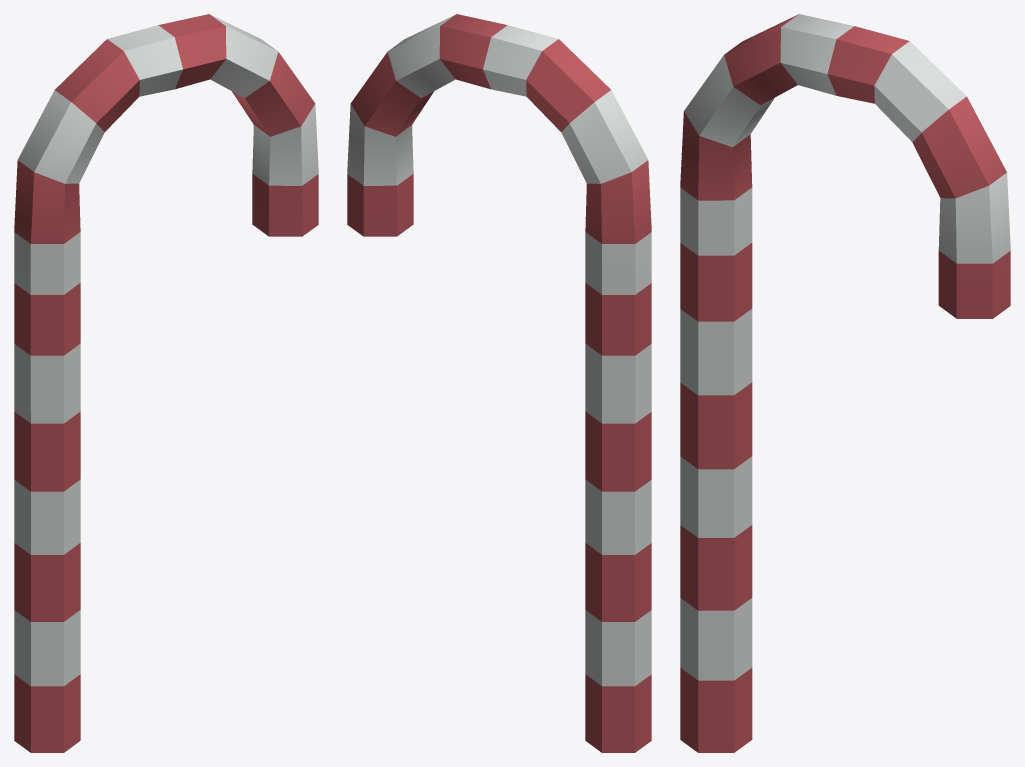
The model's file is canne.fbx.
3 views of the same model, side by side, from view 1: azimuth 30°, elevation 25°; view 2: azimuth 150°, elevation 25°; view 3: azimuth 330°, elevation 25° (orthographic). The views are drawn at different scales.
Visible parts, largest first — view 1: pCylinder1; view 2: pCylinder1; view 3: pCylinder1.
Part boxes in pixels (x1,y1,x2,y2): pCylinder1: (14, 14, 318, 752); pCylinder1: (347, 14, 651, 752); pCylinder1: (680, 14, 1010, 752).
Bounding box in the file's own units: 39.62 × 89.46 × 7.91.
